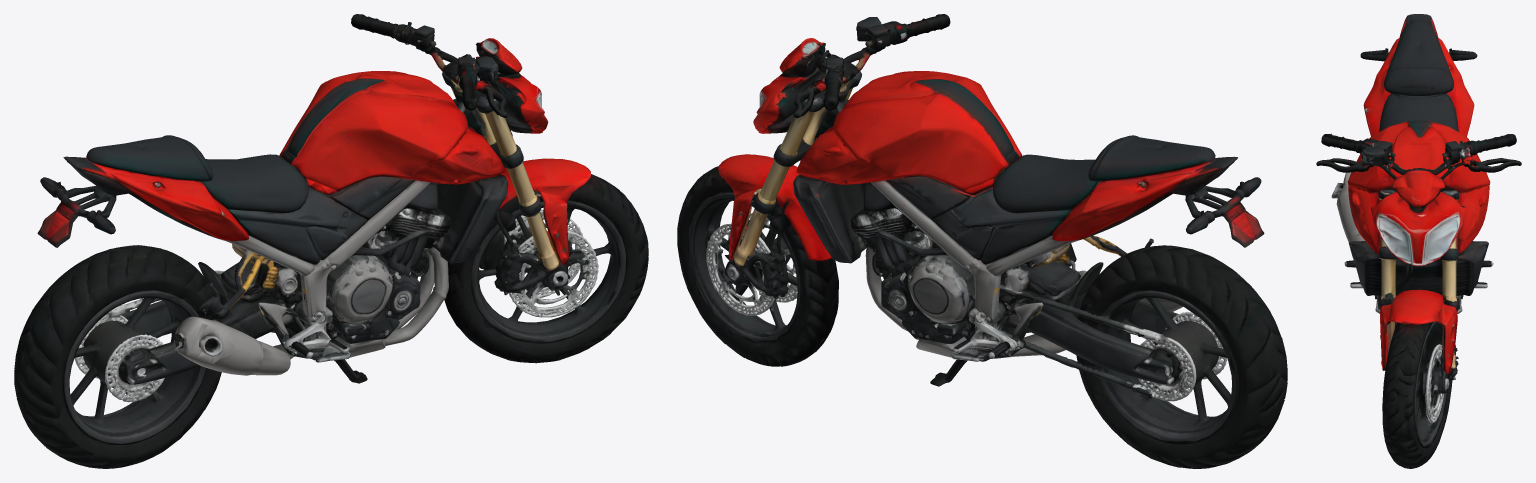
The model's file is bike-mid.7b3abfd3.glb.
3 views of the same model, side by side, from view 1: azimuth 30°, elevation 25°; view 2: azimuth 150°, elevation 25°; view 3: azimuth 270°, elevation 25° (orthographic). The views are drawn at different scales.
Visible parts, largest first — view 1: trim_dark (×36), body_paint (×9), chrome_trim (×3), headlight_lens (×2); view 2: trim_dark (×34), body_paint (×9), chrome_trim (×2), headlight_lens; view 3: trim_dark (×17), body_paint (×10), headlight_lens (×2), chrome_trim.
Part boxes in pixels (x1,y1,x2,y2): trim_dark (×36): (14,14,648,468); body_paint (×9): (63,56,591,265); chrome_trim (×3): (105,308,348,402); headlight_lens (×2): (495,210,598,317); trim_dark (×34): (677,14,1287,468); body_paint (×9): (718,68,1237,271); chrome_trim (×2): (953,308,1196,401); headlight_lens: (706,223,774,315); trim_dark (×17): (1316,21,1521,468); body_paint (×10): (1347,14,1490,373); headlight_lens (×2): (1423,218,1457,422); chrome_trim: (1338,191,1355,242).
Bounding box in the file's own units: 2.02 × 1.07 × 0.7142.
102 materials, 102 textured.
